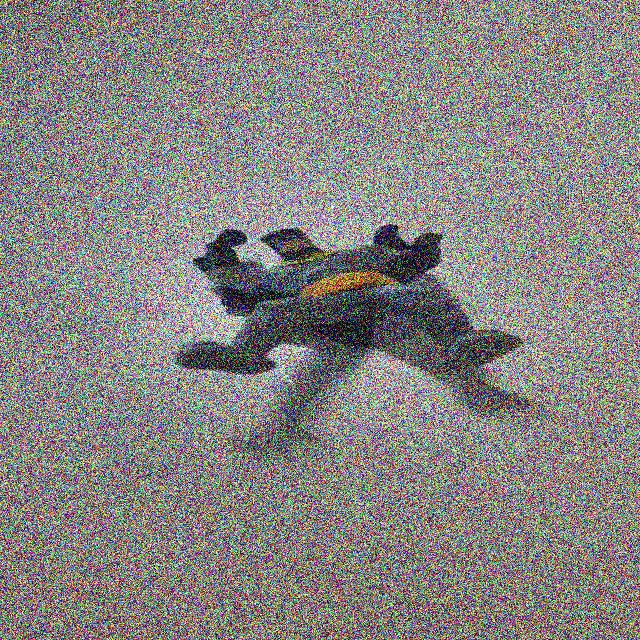Batman: (166, 210, 533, 383)
